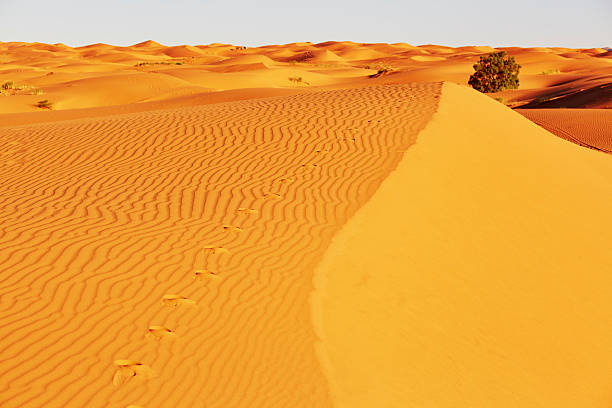animal_foot_print: (113, 360, 153, 385), (146, 325, 175, 339), (162, 294, 195, 306), (193, 269, 218, 279), (203, 245, 228, 253), (236, 207, 257, 214), (223, 225, 242, 231), (278, 177, 295, 183), (337, 137, 355, 142), (300, 164, 318, 169), (264, 193, 281, 198), (315, 149, 328, 154), (126, 404, 143, 407)
